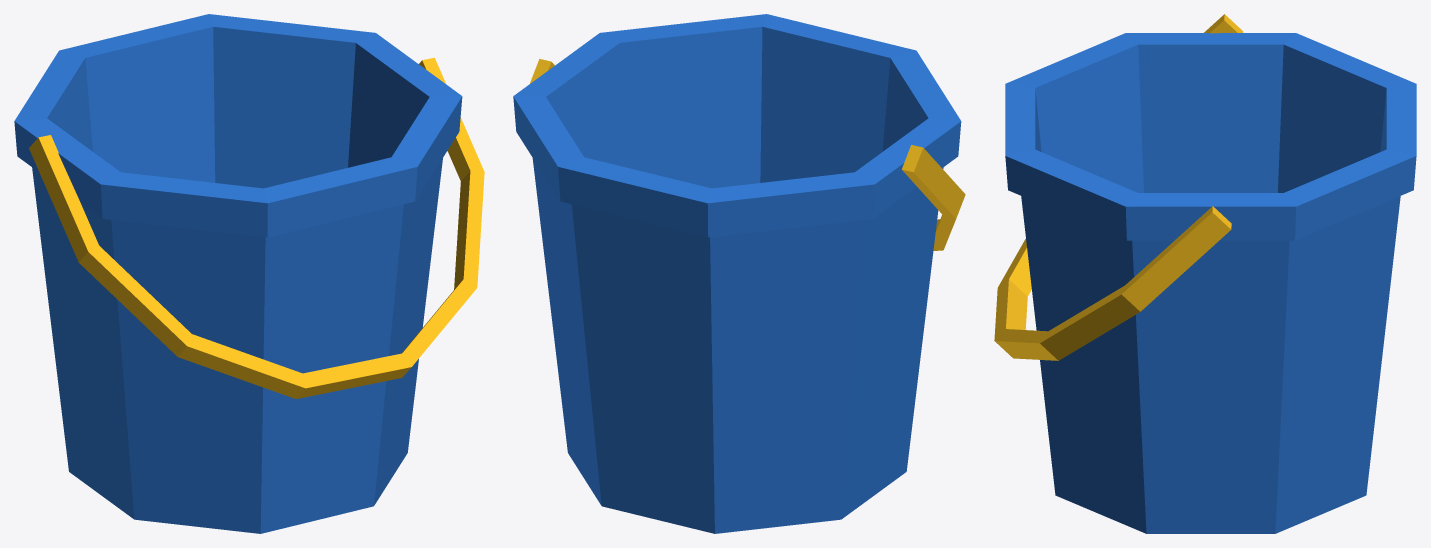
File: Bucket.fbx
3 views of the same model, side by side, from view 1: azimuth 30°, elevation 25°; view 2: azimuth 150°, elevation 25°; view 3: azimuth 270°, elevation 25° (orthographic).
Parts seen in each view (by area): view 1: Bucket; view 2: Bucket; view 3: Bucket.
Boxes of the visible parts, bbox=[...] form: Bucket: bbox=[14, 14, 484, 533]; Bucket: bbox=[513, 14, 965, 533]; Bucket: bbox=[994, 14, 1416, 533].
Bounding box in the file's own units: 0.4087 × 0.3639 × 0.3851.
